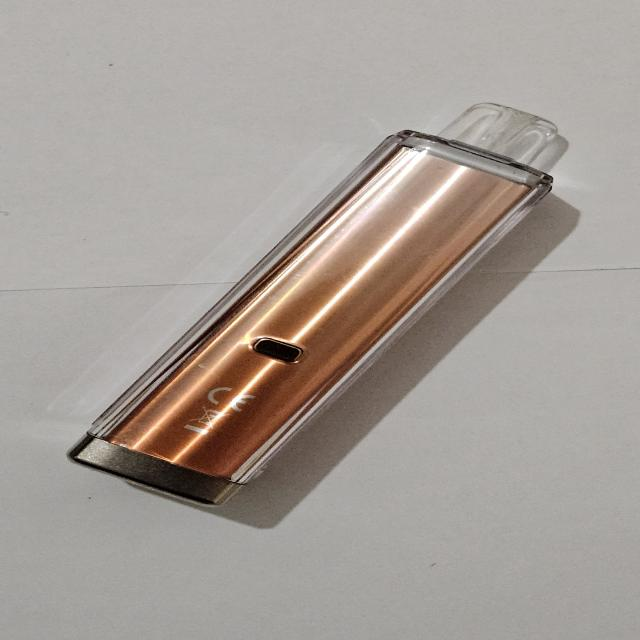Hazard: (66, 101, 569, 506)
